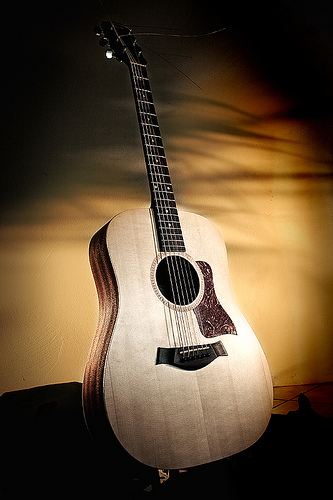guitar: (82, 16, 274, 471)
